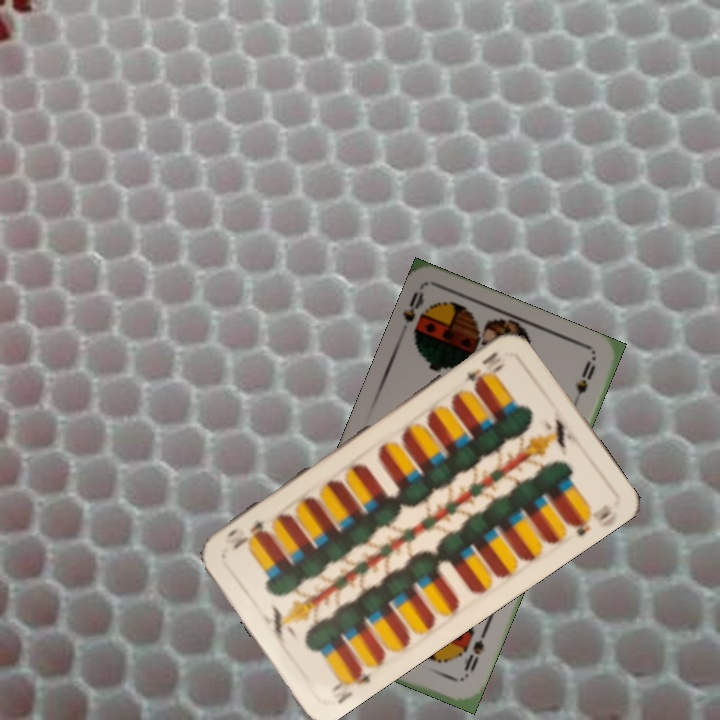E10: (327, 662, 375, 707), (458, 347, 501, 391)
SO: (399, 288, 430, 347), (457, 626, 489, 682)
